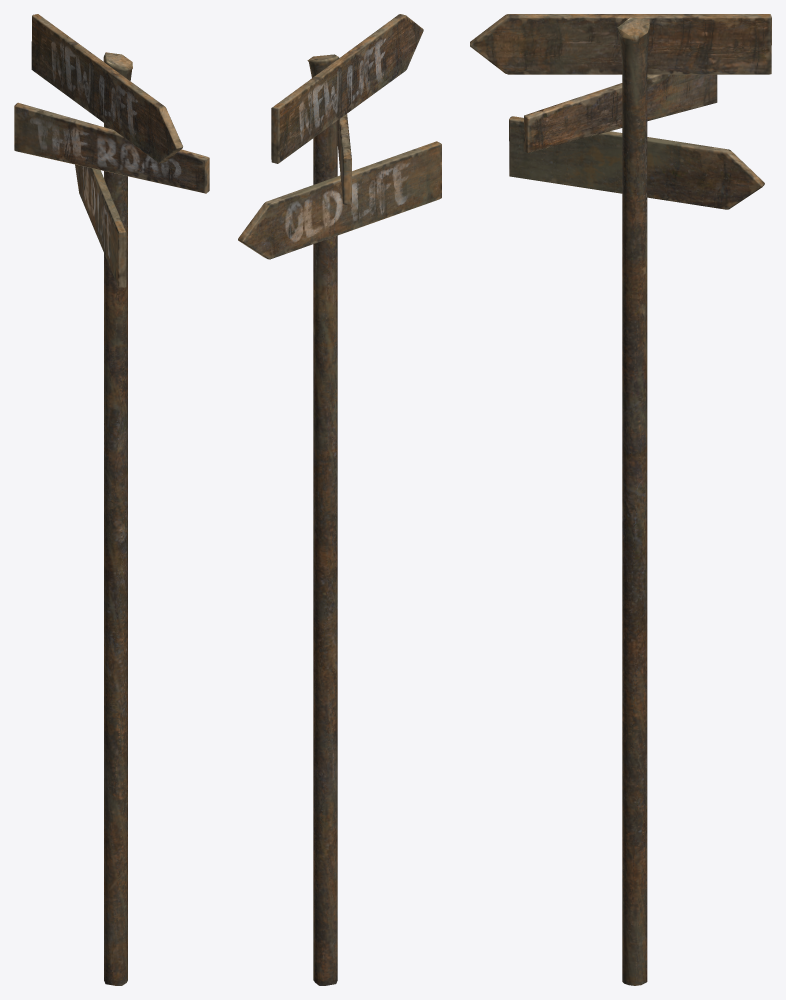
The model's file is SM_Sign01.fbx.
3 views of the same model, side by side, from view 1: azimuth 30°, elevation 25°; view 2: azimuth 150°, elevation 25°; view 3: azimuth 270°, elevation 25° (orthographic). The views are drawn at different scales.
Parts seen in each view (by area): view 1: SM_Sign01_LOD0; view 2: SM_Sign01_LOD0; view 3: SM_Sign01_LOD0.
Boxes of the visible parts, left/top/right/bottom form: SM_Sign01_LOD0: left=14, top=14, right=209, bottom=985; SM_Sign01_LOD0: left=238, top=14, right=441, bottom=985; SM_Sign01_LOD0: left=470, top=14, right=771, bottom=985.
Size of the model in its own units: 49.39 by 117 by 412.
Materials: 1 (1 with a texture image).
